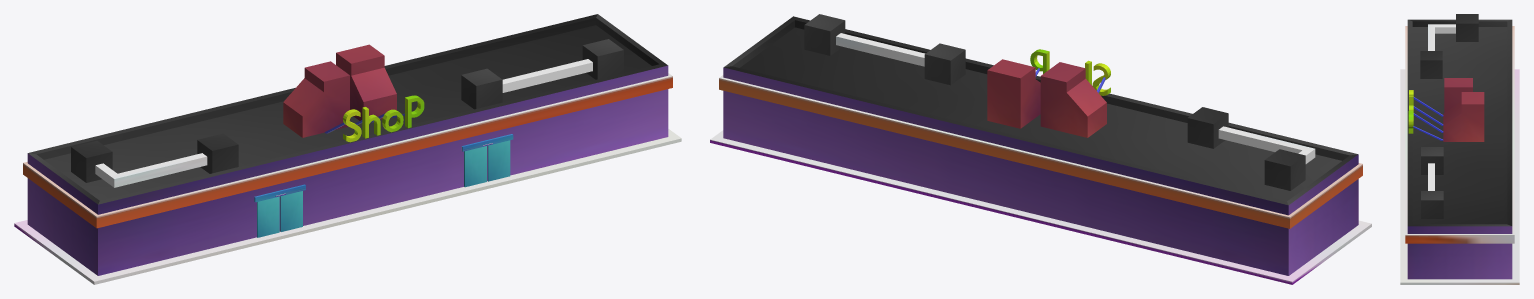
The model's file is Shop_1.fbx.
3 renders of one model, left to right at view 1: azimuth 30°, elevation 25°; view 2: azimuth 150°, elevation 25°; view 3: azimuth 270°, elevation 25°, orthographic. The views are drawn at different scales.
Parts seen in each view (by area): view 1: Shop_1; view 2: Shop_1; view 3: Shop_1.
Part boxes in pixels (x1,y1,x2,y2): Shop_1: (14,14,681,284); Shop_1: (710,14,1371,284); Shop_1: (1400,14,1519,284).
Size of the model in its own units: 4479 by 862 by 1058.
Materials: 1 (1 with a texture image).
